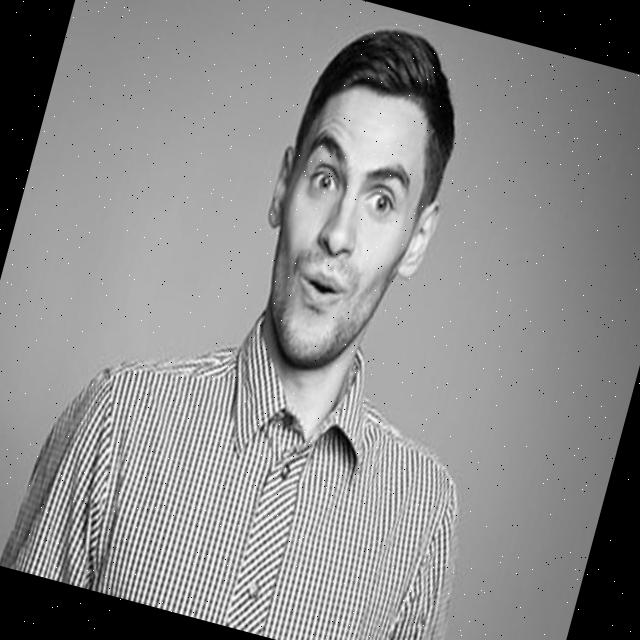Surprised: (242, 76, 446, 387)
